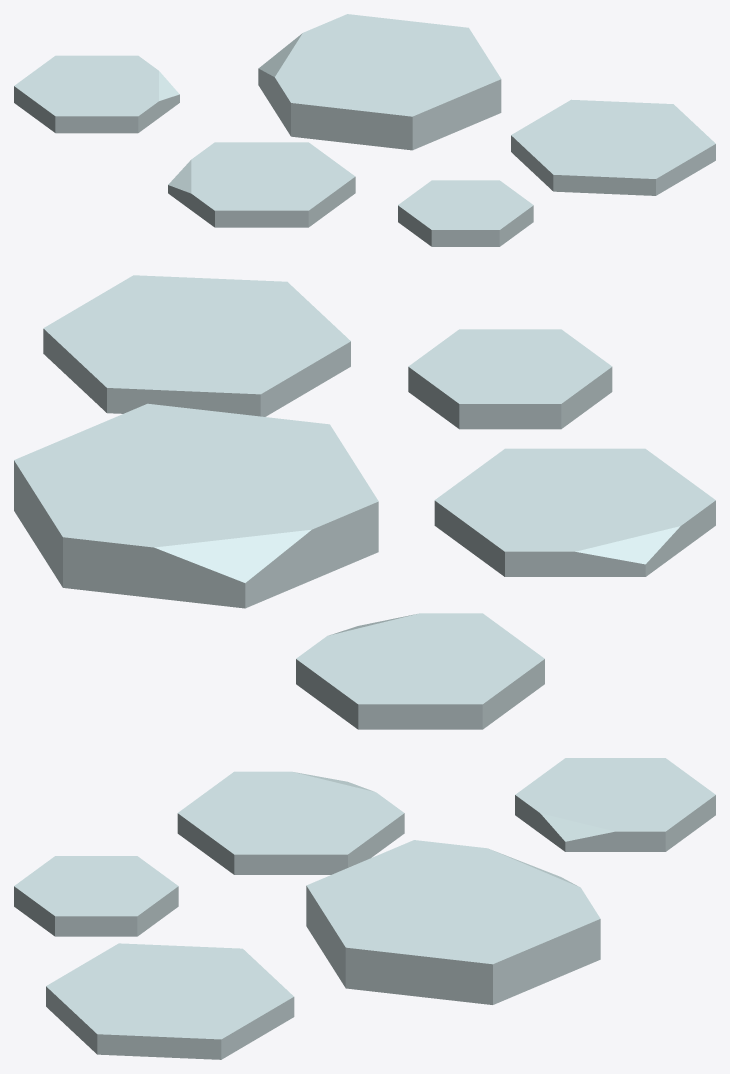
The model's file is path_stoneCorner.glb.
The picture shows the model from 3 angles, top to bottom: view 1: azimuth 30°, elevation 25°; view 2: azimuth 150°, elevation 25°; view 3: azimuth 270°, elevation 25°; orthographic projection. The views are drawn at different scales.
Parts seen in each view (by area): view 1: path_stoneCorner; view 2: path_stoneCorner; view 3: path_stoneCorner.
Part boxes in pixels (x1,y1,x2,y2): path_stoneCorner: [14, 14, 715, 246]; path_stoneCorner: [14, 275, 715, 729]; path_stoneCorner: [14, 758, 715, 1059].
Size of the model in its own units: 0.7383 by 0.05 by 0.7784.
